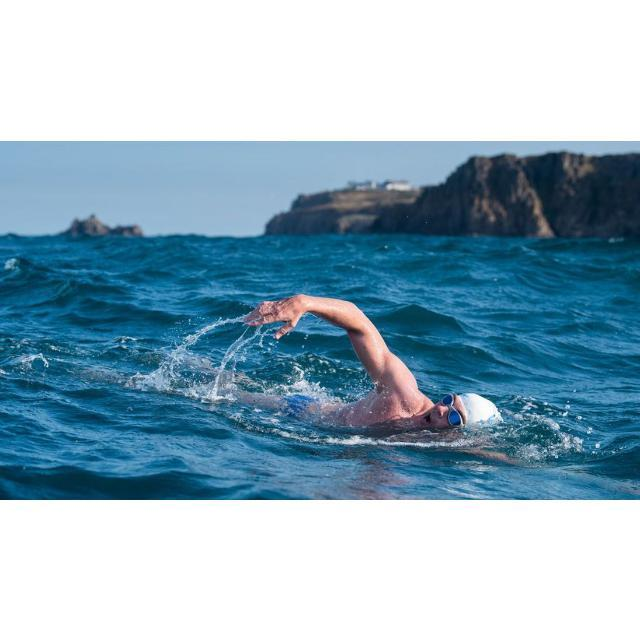human: (229, 292, 503, 442)
